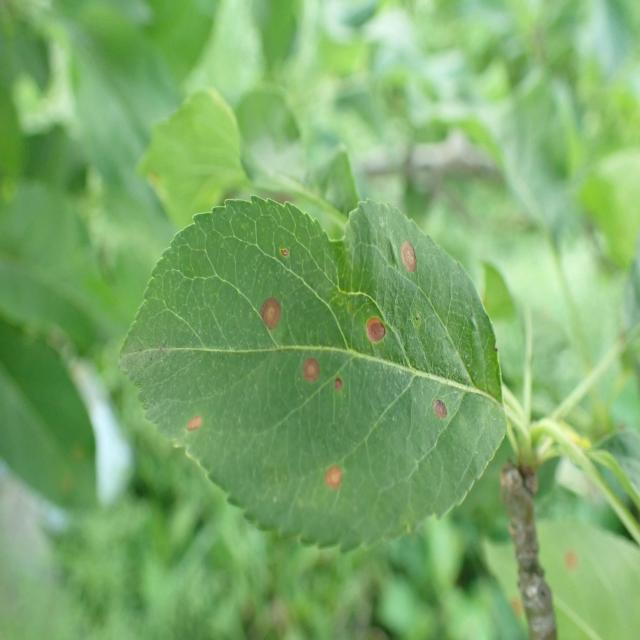Black Rot: (171, 370, 218, 478), (242, 273, 294, 352), (299, 348, 343, 416), (356, 291, 402, 355), (314, 447, 358, 510), (396, 208, 418, 302), (429, 369, 453, 447), (275, 212, 301, 269)
